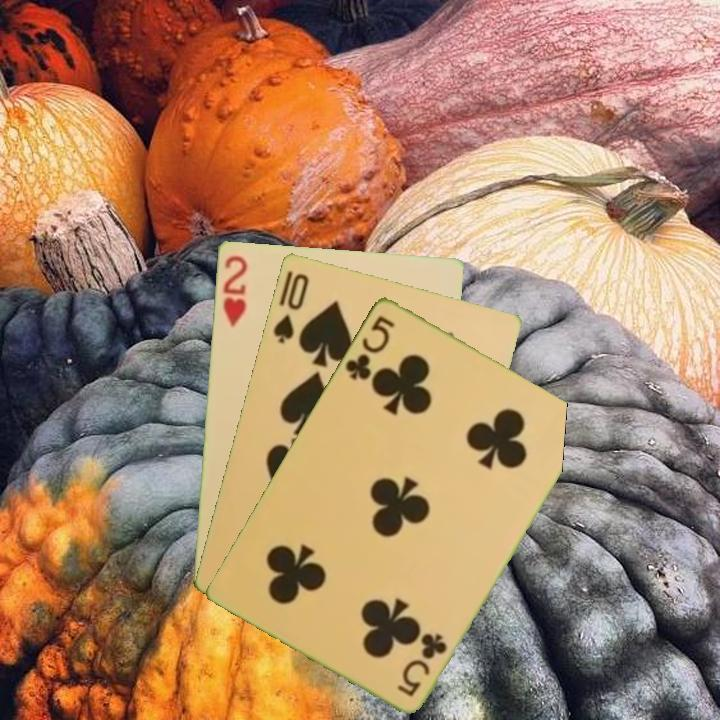10s: (269, 269, 311, 346)
2h: (219, 251, 249, 329)
5c: (393, 628, 450, 699), (341, 311, 397, 383)
